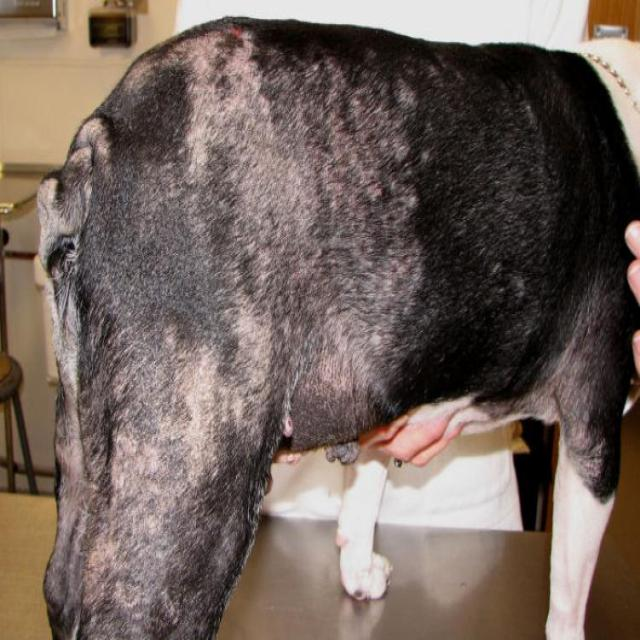allergic dermatitis: (235, 64, 421, 397), (87, 314, 220, 638), (128, 30, 276, 182), (186, 297, 273, 440)
